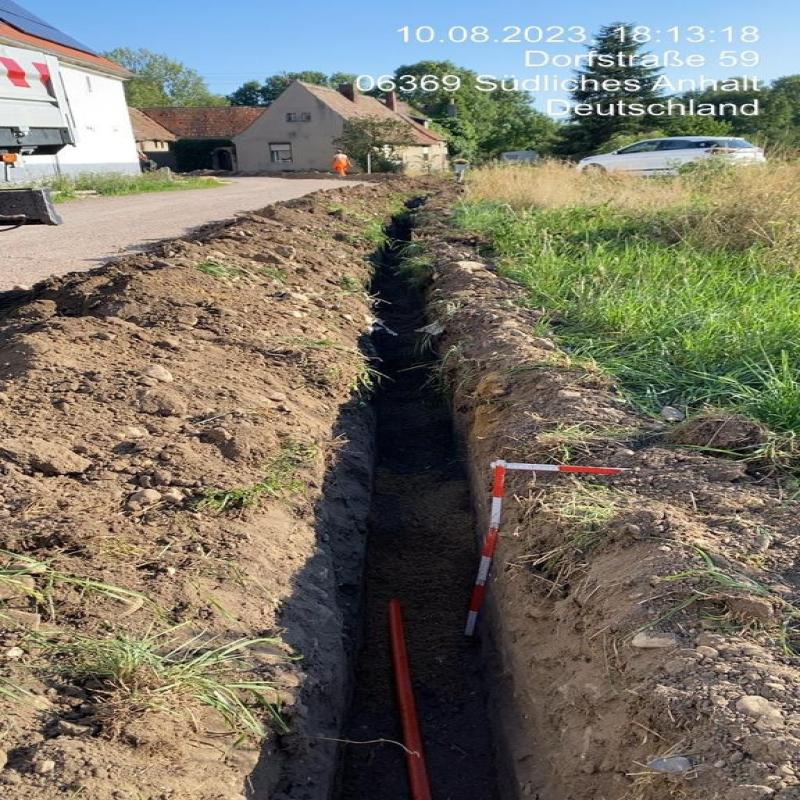Orang-Speednetrohrchen: (384, 597, 432, 800)
